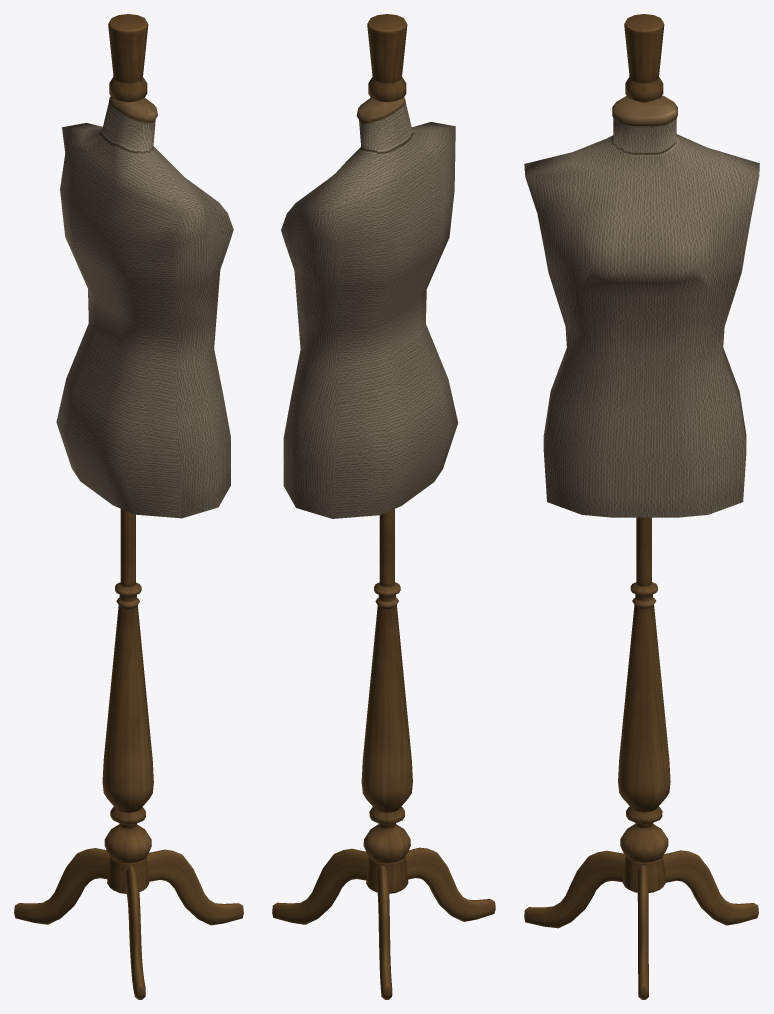
Rendered from Bust.fbx.
3 renders of one model, left to right at view 1: azimuth 30°, elevation 25°; view 2: azimuth 150°, elevation 25°; view 3: azimuth 270°, elevation 25°, orthographic.
Parts seen in each view (by area): view 1: Bust_Piece, Bust_SupportPole, Bust_Leg1, Bust_Leg2, Bust_Leg3; view 2: Bust_Piece, Bust_SupportPole, Bust_Leg1, Bust_Leg3, Bust_Leg2; view 3: Bust_Piece, Bust_SupportPole, Bust_Leg3, Bust_Leg2, Bust_Leg1.
Boxes of the visible parts, bbox=[...] form: Bust_Piece: bbox=[56, 96, 233, 518]; Bust_SupportPole: bbox=[102, 14, 153, 893]; Bust_Leg1: bbox=[146, 849, 243, 925]; Bust_Leg2: bbox=[14, 848, 109, 924]; Bust_Leg3: bbox=[126, 865, 145, 999]; Bust_Piece: bbox=[281, 97, 458, 518]; Bust_SupportPole: bbox=[361, 14, 412, 893]; Bust_Leg1: bbox=[272, 848, 368, 924]; Bust_Leg3: bbox=[405, 847, 495, 921]; Bust_Leg2: bbox=[377, 865, 392, 999]; Bust_Piece: bbox=[524, 95, 759, 517]; Bust_SupportPole: bbox=[618, 14, 670, 892]; Bust_Leg3: bbox=[524, 850, 625, 928]; Bust_Leg2: bbox=[663, 850, 758, 925]; Bust_Leg1: bbox=[637, 865, 648, 999].
Bounding box in the file's own units: 30.62 × 155 × 35.94.
